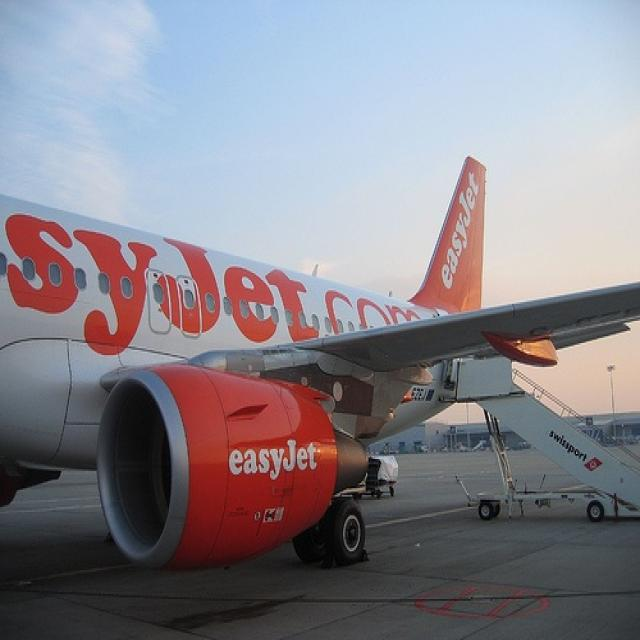aeroplane: (1, 157, 640, 565)
